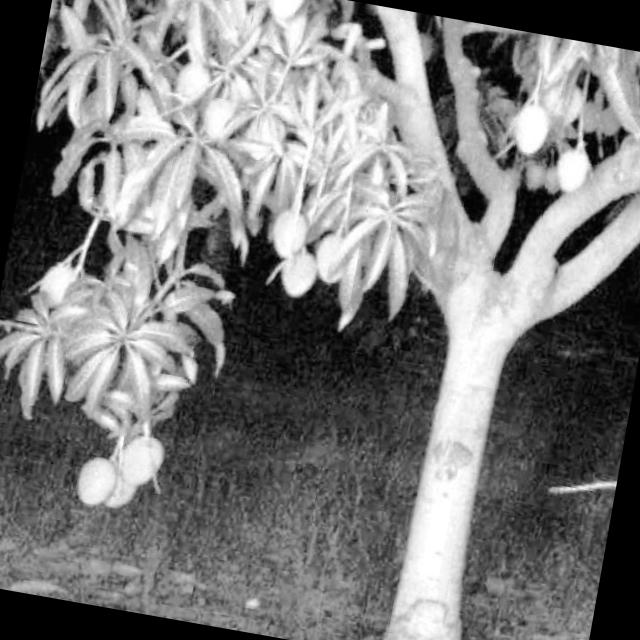Tree: (273, 6, 640, 640)
